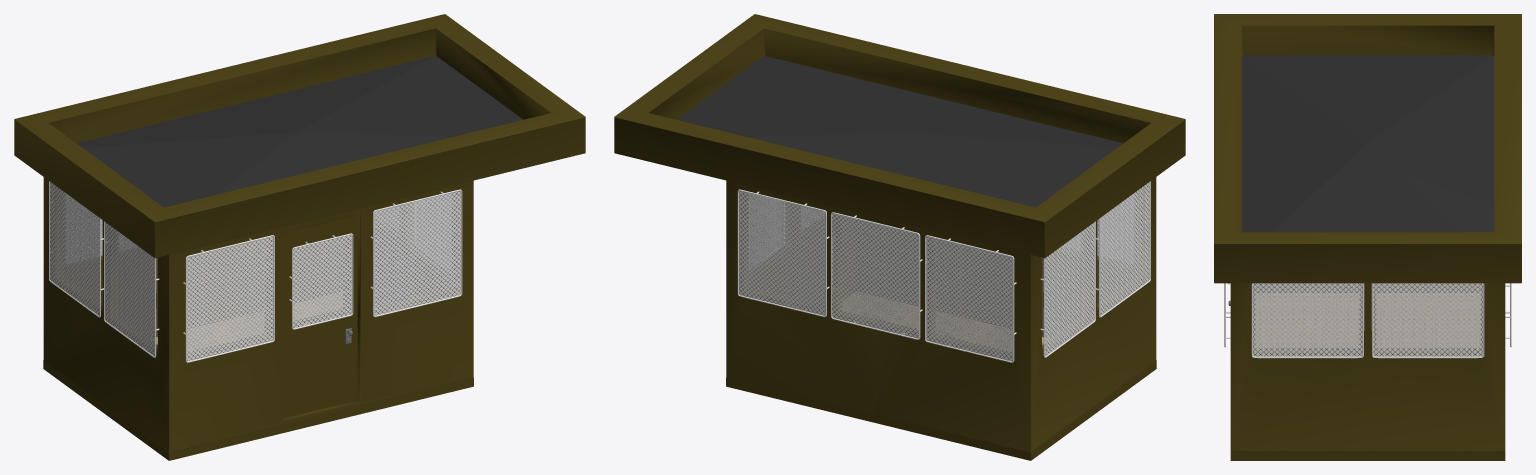
3 renders of one model, left to right at view 1: azimuth 30°, elevation 25°; view 2: azimuth 150°, elevation 25°; view 3: azimuth 270°, elevation 25°, orthographic. The views are drawn at different scales.
Parts seen in each view (by area): view 1: Guardroom_02; view 2: Guardroom_02; view 3: Guardroom_02.
Boxes of the visible parts, x1,y1,x2,y2 form: Guardroom_02: (14,14,585,460); Guardroom_02: (614,14,1185,460); Guardroom_02: (1214,14,1521,460).
Bounding box in the file's own units: 1949 × 1079 × 1103.
